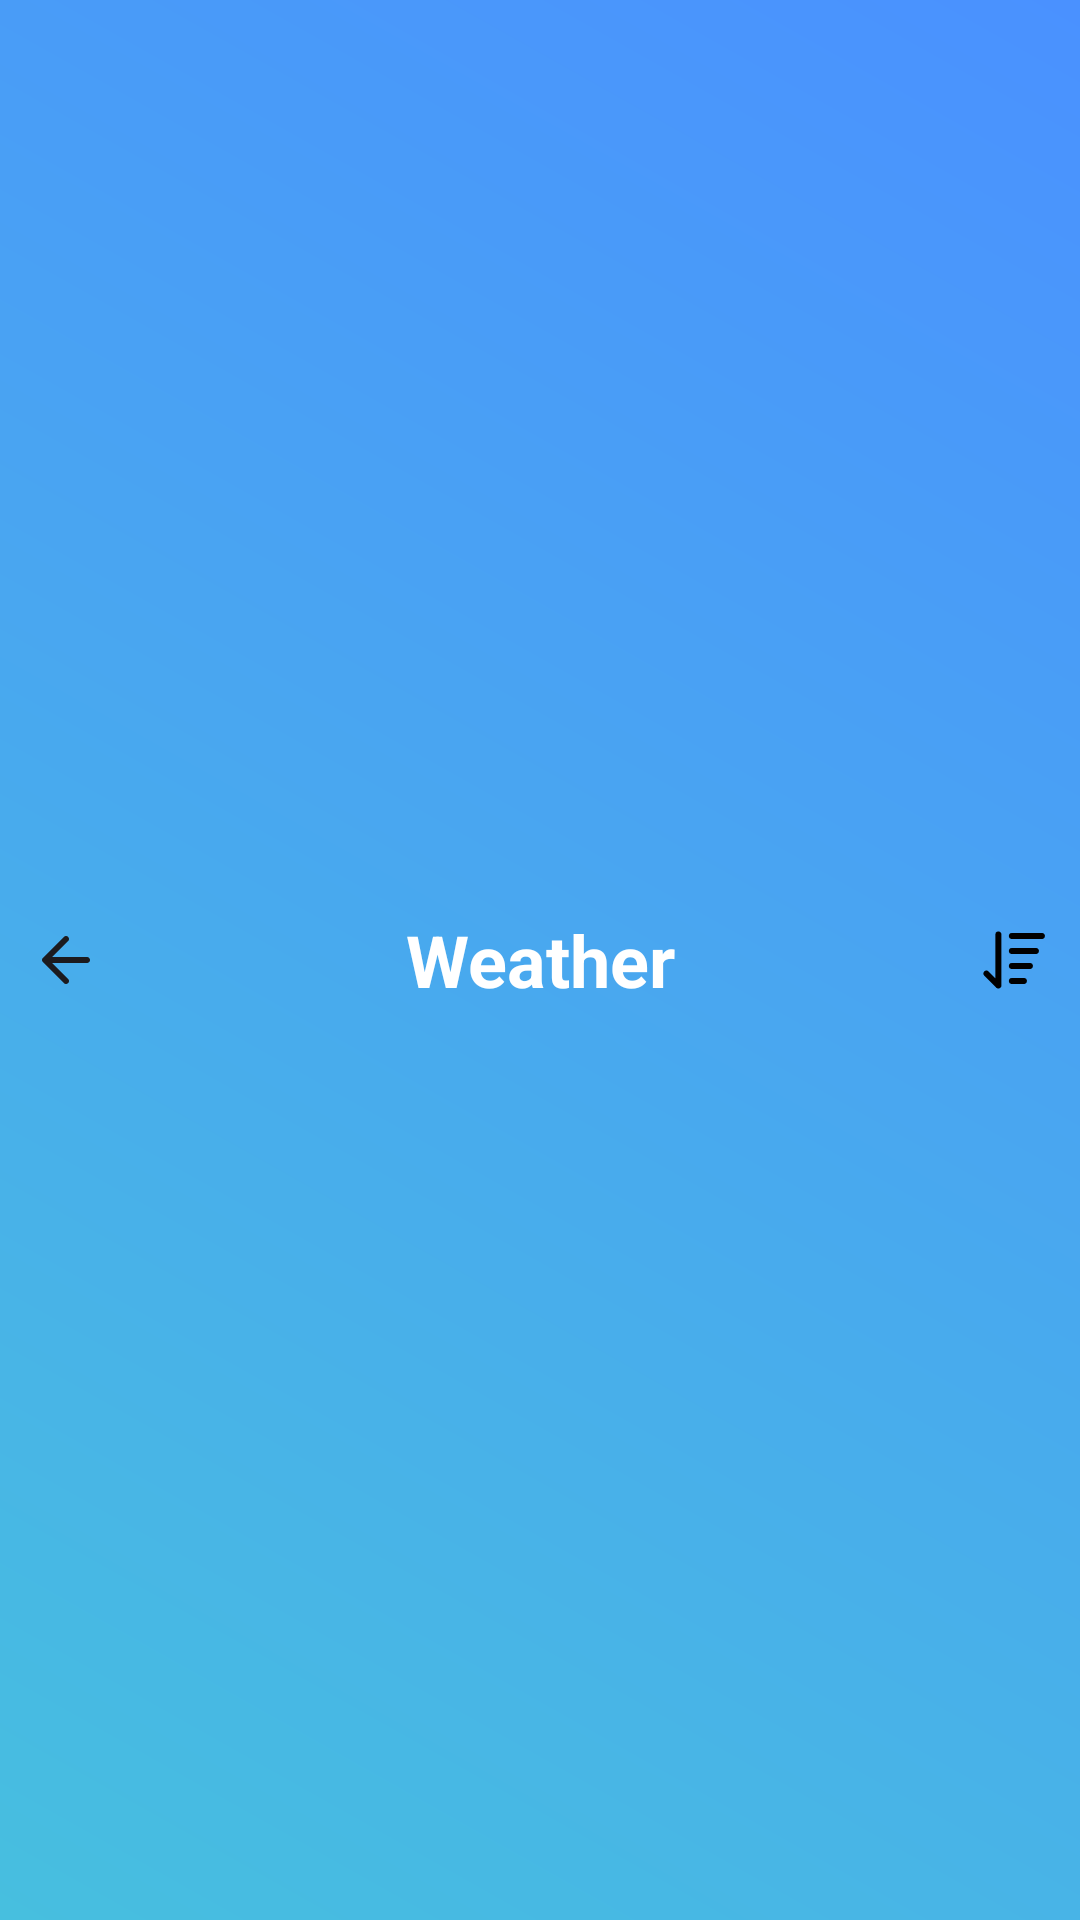

Screen size 1080 x 1920. Icon name, then its center in pixels as point (x, y):
back create note: point (66, 960)
short: point (1014, 960)
